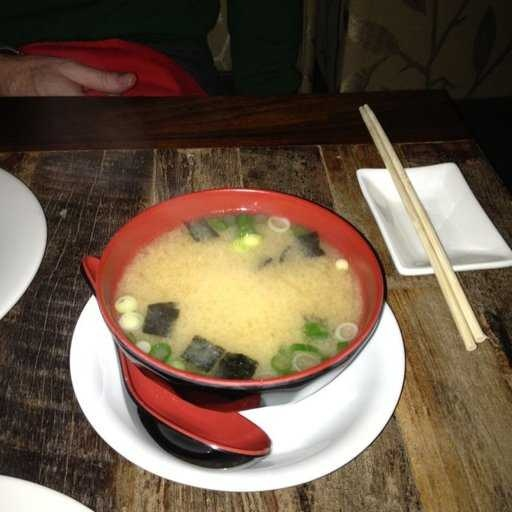soup: (92, 200, 375, 368)
